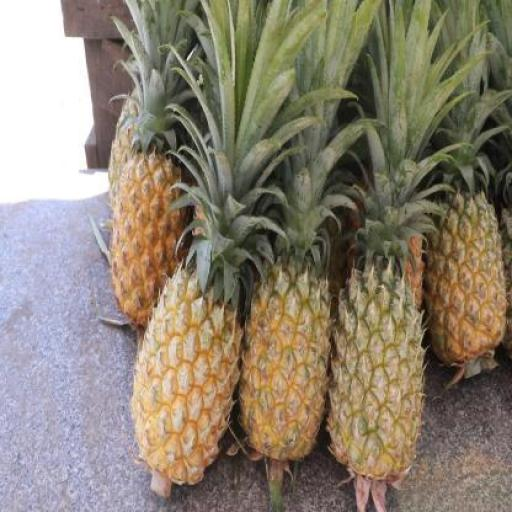------------------------------: (328, 272, 426, 475)
Pineapple - v8 v1: (128, 272, 234, 484), (239, 269, 330, 465), (112, 144, 188, 331), (428, 194, 505, 360)
